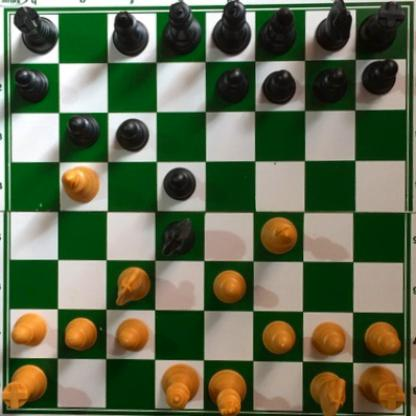black-bishop: (255, 5, 296, 53), (111, 11, 152, 57)
black-king: (210, 1, 251, 55)
black-knight: (315, 1, 354, 53), (158, 215, 197, 258)
black-pawn: (7, 66, 50, 105), (113, 114, 152, 151), (160, 163, 197, 202), (361, 56, 399, 93), (213, 68, 248, 107), (310, 67, 345, 106), (259, 69, 294, 105), (63, 109, 98, 144)
black-queen: (157, 1, 200, 55)
black-rook: (356, 1, 404, 54), (12, 3, 59, 54)
white-bishop: (256, 211, 299, 254), (60, 165, 101, 205)
white-king: (204, 366, 247, 416)
white-knight: (309, 369, 346, 416), (113, 262, 152, 305)
white-pawn: (8, 307, 50, 350), (61, 314, 100, 355), (358, 320, 401, 356), (261, 317, 299, 356), (211, 269, 248, 307), (112, 316, 150, 352), (309, 322, 347, 357)
white-queen: (157, 360, 200, 412)
white-rook: (1, 361, 49, 411), (355, 363, 405, 410)
